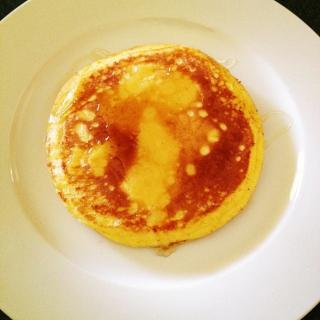Pancake: (48, 45, 260, 246)
